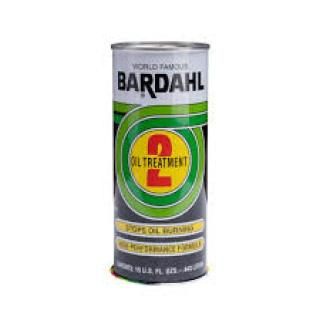Anorganik: (102, 32, 227, 294)
